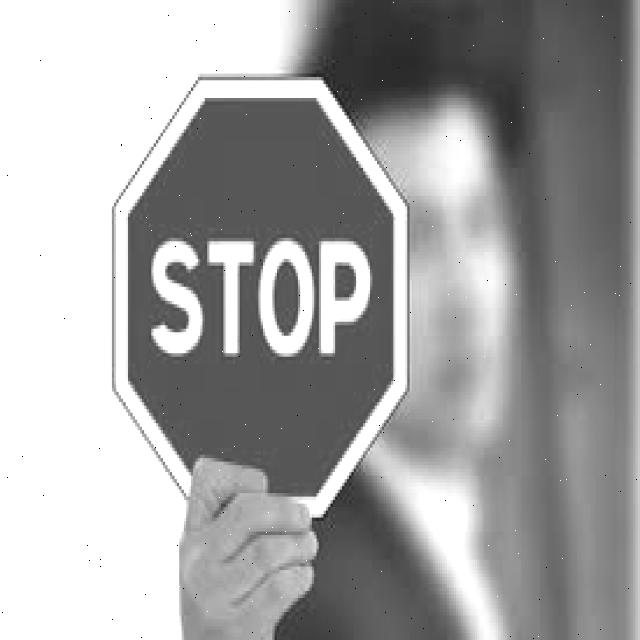stop sign: (114, 75, 409, 514)
